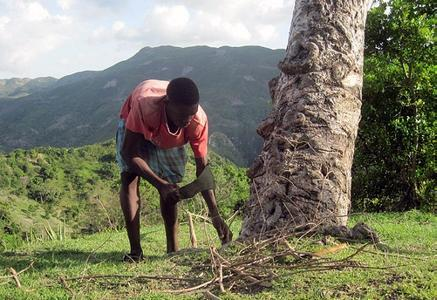person: (115, 78, 234, 264)
